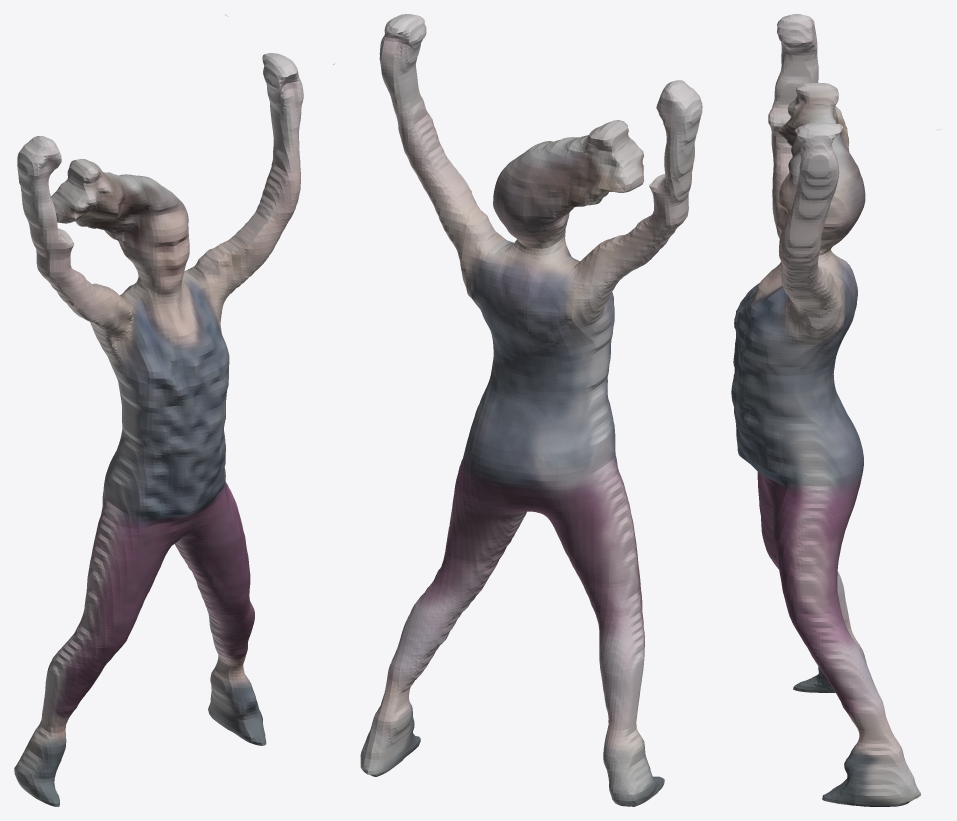
The model's file is 0059_tex.glb.
The picture shows the model from 3 angles, left to right: view 1: azimuth 30°, elevation 25°; view 2: azimuth 150°, elevation 25°; view 3: azimuth 270°, elevation 25°; orthographic projection. The views are drawn at different scales.
Visible parts, largest first — view 1: 0059_tex.obj; view 2: 0059_tex.obj; view 3: 0059_tex.obj.
Boxes of the visible parts, <box> form: 0059_tex.obj: <box>14,14,303,806</box>; 0059_tex.obj: <box>333,14,702,806</box>; 0059_tex.obj: <box>731,14,941,806</box>.
Size of the model in its own units: 0.3924 by 0.8962 by 0.2508.
